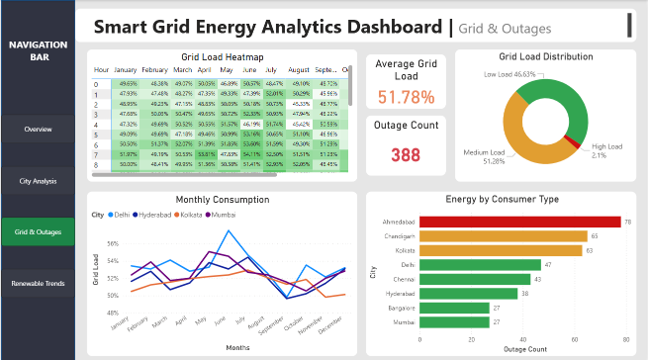

Layout of this report page (visuals, bound fields, positions):
{"tool":"powerbi","page":{"name":"Grid & Outages","canvas":[1280,720],"ordinal":2},"visuals":[{"type":"shape","box":[0,0,147.1,720.6],"z":0},{"type":"textbox","box":[147.7,17.2,1112.6,66.5],"z":1000},{"type":"pageNavigator","box":[0,226.9,147.1,364.1],"z":2000},{"type":"card","title":"Outage Count","fields":{"Values":["Measures_.Outage Count"]},"box":[723.9,229.4,158.3,119],"z":3000},{"type":"lineChart","title":"Monthly Consumption","fields":{"Category":["smart_grid_energy_dataset.Date.Variation.Date Hierarchy.Month"],"Y":["Measures_.Average Grid Load"],"Series":["smart_grid_energy_dataset.City"]},"box":[170.6,380.4,536.2,326.4],"z":4000},{"type":"pieChart","title":"Grid Load Distribution","fields":{"Category":["smart_grid_energy_dataset.Grid Load Category"],"Y":["Measures_.Row Count"]},"box":[900.6,98.2,359.5,262.6],"z":5000},{"type":"clusteredBarChart","title":"Energy by Consumer Type","fields":{"Category":["smart_grid_energy_dataset.City"],"Y":["Measures_.Outage Count"]},"box":[723.9,380.4,536.2,326.4],"z":6000},{"type":"textbox","box":[0,70.2,147.7,76.3],"z":7000},{"type":"pivotTable","title":"Grid Load Heatmap","fields":{"Values":["Measures_.Average Grid Load"],"Rows":["smart_grid_energy_dataset.Hour"],"Columns":["smart_grid_energy_dataset.Date.Variation.Date Hierarchy.Month"]},"box":[170.6,98.2,536.2,262.6],"z":8000},{"type":"card","title":"Average Grid Load","fields":{"Values":["Measures_.Average Grid Load"]},"box":[723.9,108,158.3,108],"z":9000}]}

Visuals, with their boxes on the page's 1280x720 design canvas (x1, y1, x2, y2). These are canvas units, not pixel positions in the 648x360 screenshot, which may show the page scaled, cropped or inside an application window:
shape: locate(0, 0, 147, 721)
textbox: locate(148, 17, 1260, 84)
pageNavigator: locate(0, 227, 147, 591)
"Outage Count" card: locate(724, 229, 882, 348)
"Monthly Consumption" lineChart: locate(171, 380, 707, 707)
"Grid Load Distribution" pieChart: locate(901, 98, 1260, 361)
"Energy by Consumer Type" clusteredBarChart: locate(724, 380, 1260, 707)
textbox: locate(0, 70, 148, 146)
"Grid Load Heatmap" pivotTable: locate(171, 98, 707, 361)
"Average Grid Load" card: locate(724, 108, 882, 216)
